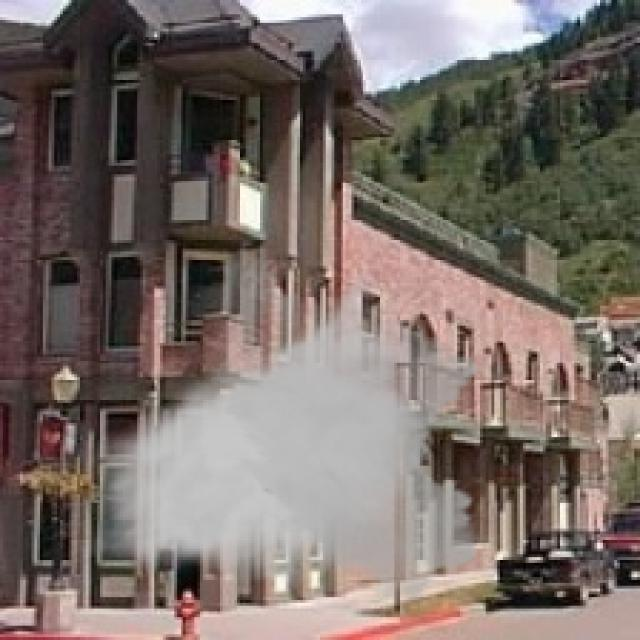smoke: (74, 237, 489, 617)
